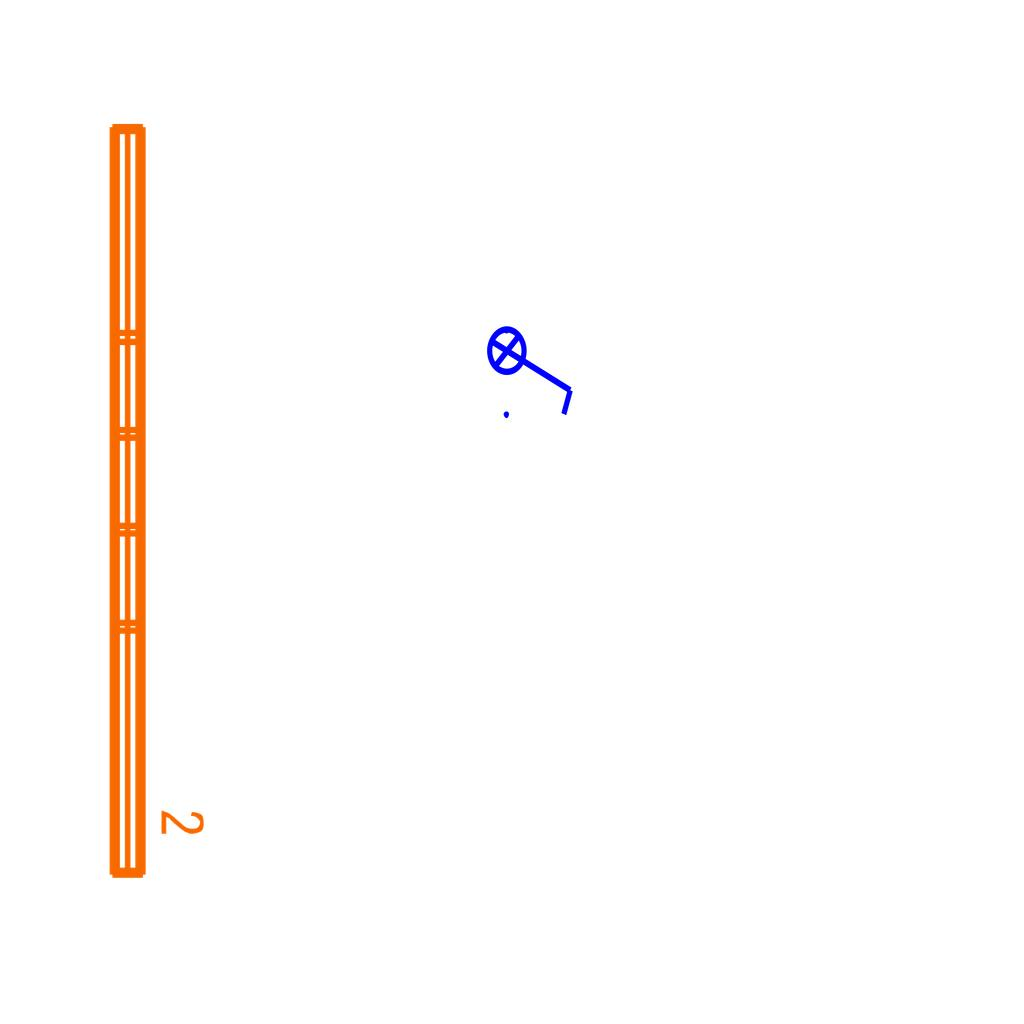Ambulanz_Pendelleuchte_LED: (97, 113, 209, 887)
Ausschalter_beleuchtet: (485, 312, 581, 424)
